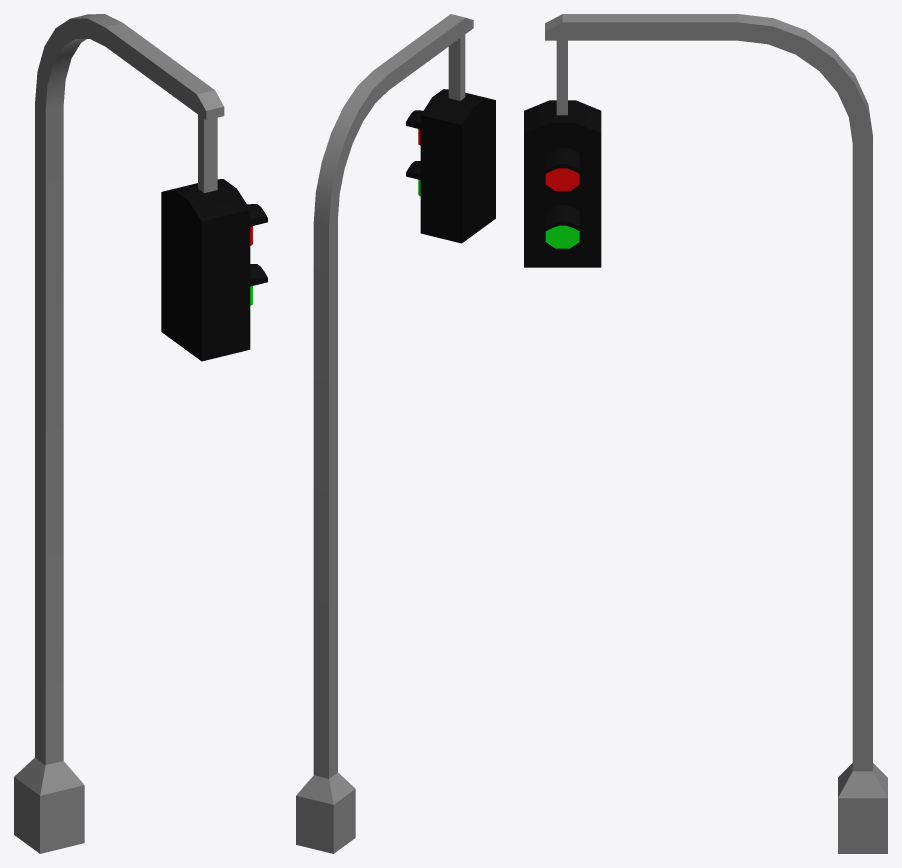
Rendered from Signal_01.FBX.
3 views of the same model, side by side, from view 1: azimuth 30°, elevation 25°; view 2: azimuth 150°, elevation 25°; view 3: azimuth 270°, elevation 25° (orthographic). The views are drawn at different scales.
Parts seen in each view (by area): view 1: Signal_01; view 2: Signal_01; view 3: Signal_01.
Part boxes in pixels (bbox=[...]): Signal_01: bbox=[14, 14, 267, 853]; Signal_01: bbox=[296, 14, 495, 853]; Signal_01: bbox=[524, 14, 887, 853].
Bounding box in the file's own units: 0.796 × 8.45 × 3.38.
